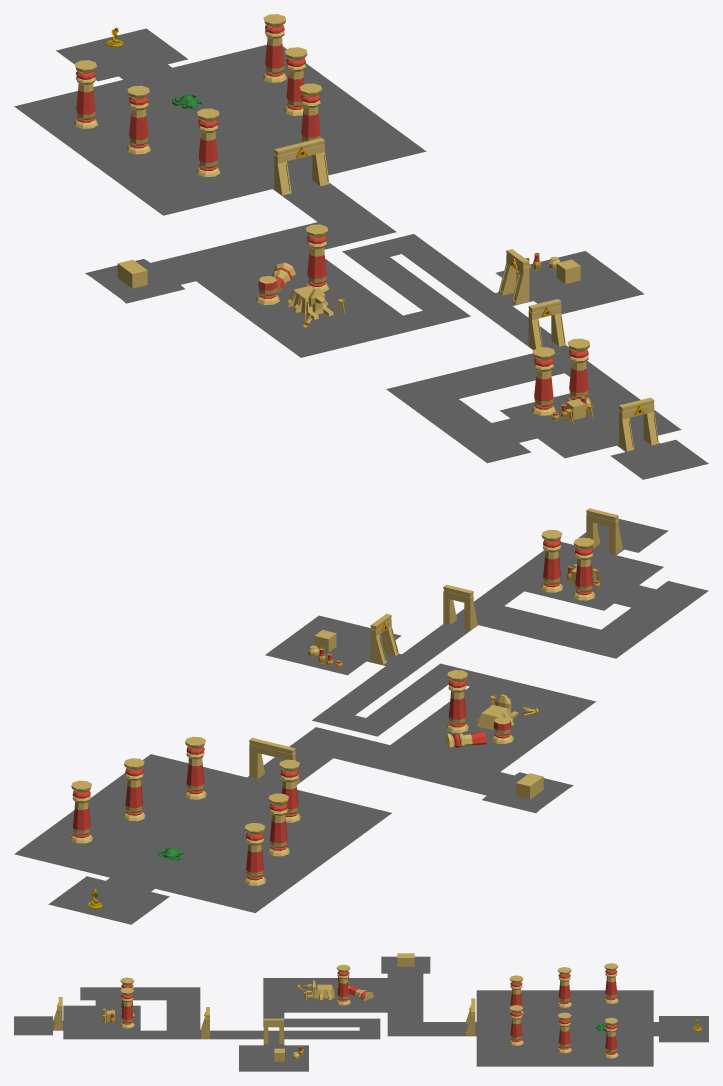
Rendered from Environment_Test.fbx.
The picture shows the model from 3 angles, top to bottom: view 1: azimuth 30°, elevation 25°; view 2: azimuth 150°, elevation 25°; view 3: azimuth 270°, elevation 25°; orthographic projection. The views are drawn at different scales.
Parts seen in each view (by area): view 1: Plane, WallEntrance.003, WallEntrance, Pillar2.012, Pillar2.011, Pillar2.001, Pillar2.005, Pillar2.003, WallEntrance.001, WallEntrance.002, Pillar2.002, Pillar2.004 (+3 smaller); view 2: Plane, Pillar2.008, Pillar2.004, Pillar2.005, Pillar2.001, Pillar2.011, Pillar2.002, Pillar2.012, Pillar2, WallEntrance.001, WallEntrance.003, WallEntrance.002 (+3 smaller); view 3: Plane, Pillar2.005, Pillar2.012, Pillar2.002, Pillar2.004, Pillar2.008, Pillar2, Pillar2.011, SphynxRight.001, WallEntrance.002, Pillar2.003, WallEntrance.003 (+4 smaller).
Part boxes in pixels (x1,y1,x2,y2): Plane: (14, 28, 708, 479); WallEntrance.003: (274, 138, 329, 195); WallEntrance: (619, 397, 658, 451); Pillar2.012: (73, 60, 97, 128); Pillar2.011: (262, 14, 286, 82); Pillar2.001: (531, 347, 555, 415); Pillar2.005: (126, 85, 150, 154); Pillar2.003: (196, 108, 220, 177); WallEntrance.001: (528, 299, 565, 349); WallEntrance.002: (498, 249, 529, 304); Pillar2.002: (304, 224, 328, 292); Pillar2.004: (284, 47, 307, 115); Plane: (14, 518, 708, 924); Pillar2.008: (184, 736, 206, 799); Pillar2.004: (123, 758, 145, 821); Pillar2.005: (267, 793, 289, 856); Pillar2.001: (573, 537, 595, 600); Pillar2.011: (70, 780, 92, 843); Pillar2.002: (446, 670, 468, 732); Pillar2.012: (244, 823, 265, 885); Pillar2: (541, 529, 562, 592); WallEntrance.001: (443, 584, 477, 630); WallEntrance.003: (249, 738, 299, 784); WallEntrance.002: (370, 613, 398, 664); Plane: (14, 956, 708, 1071); Pillar2.005: (557, 967, 571, 1007); Pillar2.012: (604, 963, 618, 1003); Pillar2.002: (336, 964, 350, 1005); Pillar2.004: (557, 1012, 571, 1053); Pillar2.008: (509, 1005, 523, 1045); Pillar2: (120, 987, 134, 1028); Pillar2.011: (604, 1017, 618, 1058); SphynxRight.001: (305, 980, 334, 999); WallEntrance.002: (263, 1018, 283, 1044); Pillar2.003: (509, 975, 523, 1014); WallEntrance.003: (466, 998, 475, 1035).
Size of the model in its own units: 890 by 144 by 2270.
